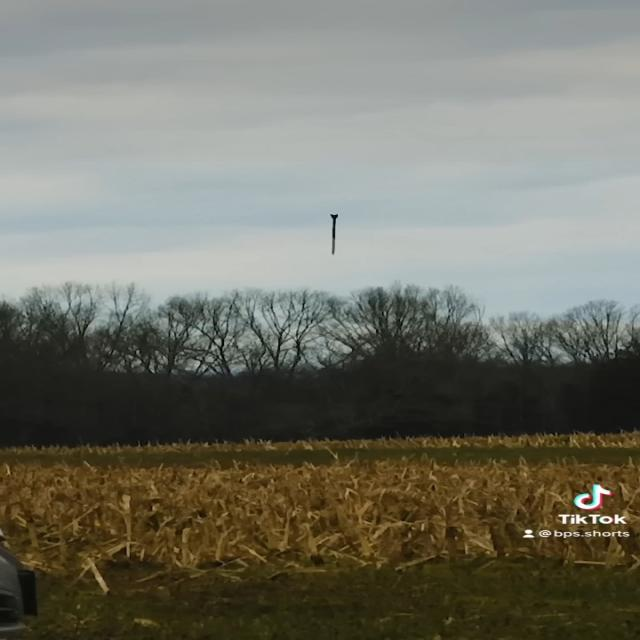missile: (330, 208, 340, 260)
